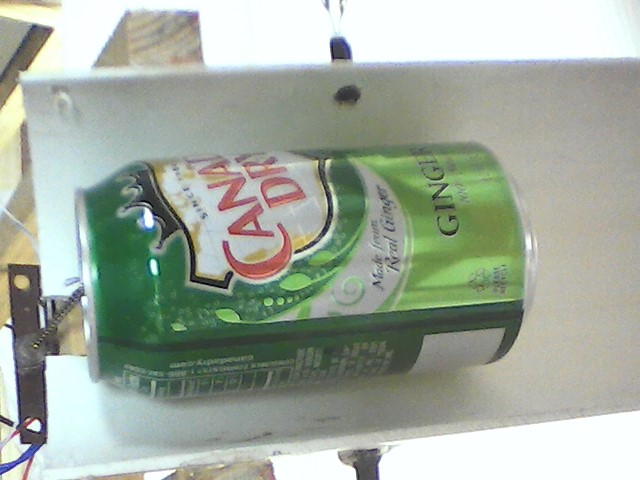lata: (72, 140, 544, 407)
